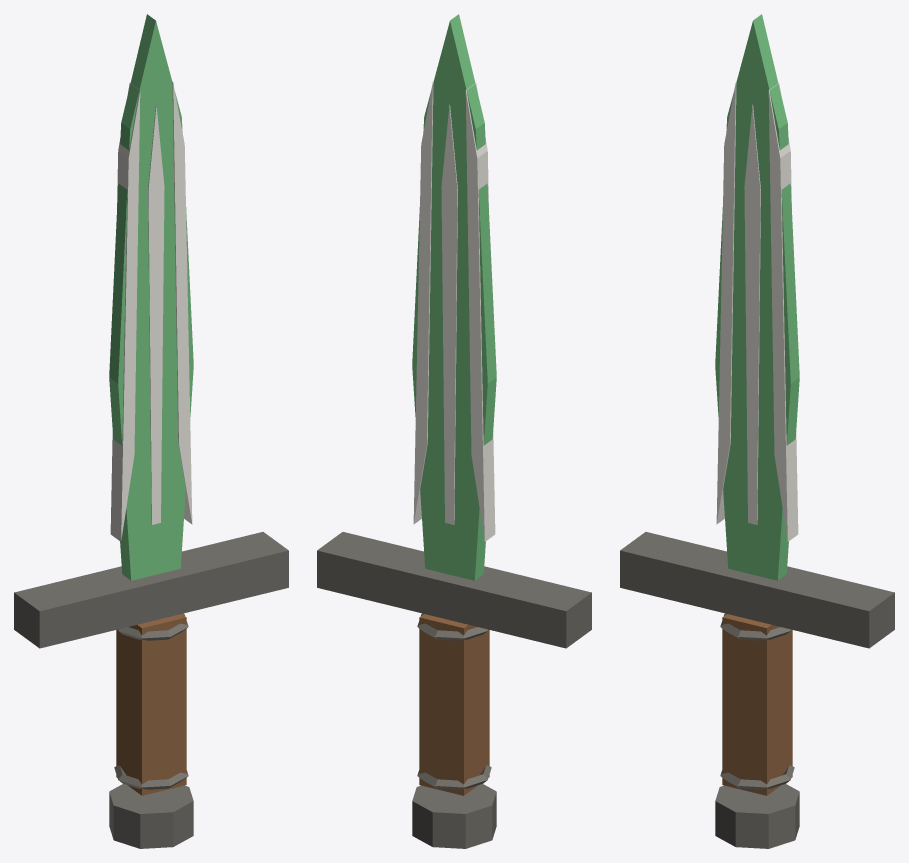
Rendered from t3_one_handed_sword.glb.
The picture shows the model from 3 angles, left to right: view 1: azimuth 30°, elevation 25°; view 2: azimuth 150°, elevation 25°; view 3: azimuth 330°, elevation 25°; orthographic projection.
Parts seen in each view (by area): view 1: Blade, Guard, Grip, LeftBladeEdge, Fuller, RightBladeEdge, Pommel, BottomGripRing, TopGripRing; view 2: Blade, Guard, Grip, LeftBladeEdge, Fuller, RightBladeEdge, Pommel, BottomGripRing, TopGripRing; view 3: Blade, Guard, Grip, RightBladeEdge, Fuller, LeftBladeEdge, Pommel, BottomGripRing, TopGripRing.
Part boxes in pixels (x1,y1,x2,y2): Blade: (109,14,193,580); Guard: (14,532,288,648); Grip: (116,614,186,795); LeftBladeEdge: (110,83,140,541); Fuller: (148,104,164,524); RightBladeEdge: (172,82,192,524); Pommel: (109,783,193,848); BottomGripRing: (114,765,188,789); TopGripRing: (118,613,188,640); Blade: (412,14,496,580); Guard: (317,532,591,648); Grip: (419,614,489,795); LeftBladeEdge: (465,83,495,541); Fuller: (441,104,457,524); RightBladeEdge: (413,82,433,524); Pommel: (412,783,496,848); BottomGripRing: (417,765,491,789); TopGripRing: (417,613,487,640); Blade: (715,14,799,580); Guard: (620,532,894,648); Grip: (722,614,792,795); RightBladeEdge: (768,83,798,541); Fuller: (744,104,760,524); LeftBladeEdge: (716,82,736,524); Pommel: (715,783,799,848); BottomGripRing: (720,765,794,789); TopGripRing: (720,613,790,640).
Bounding box in the file's own units: 0.56 × 1.75 × 0.17.
